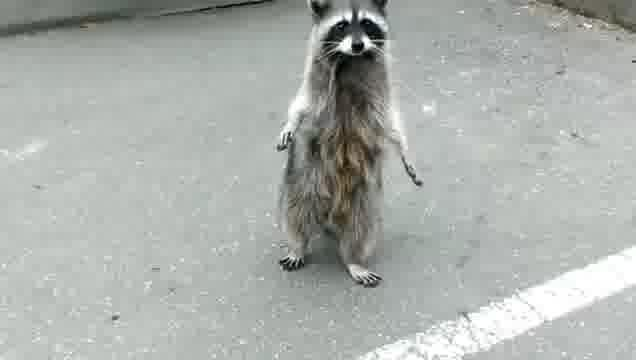raccoon: (272, 0, 425, 291)
